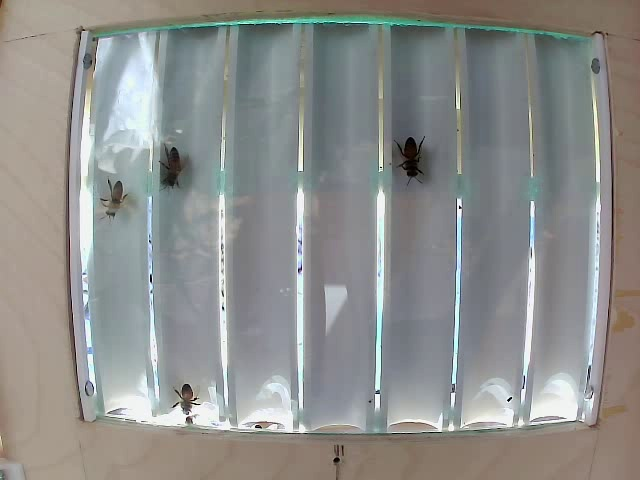bee: (391, 128, 433, 179), (95, 172, 134, 221), (163, 150, 184, 189)
